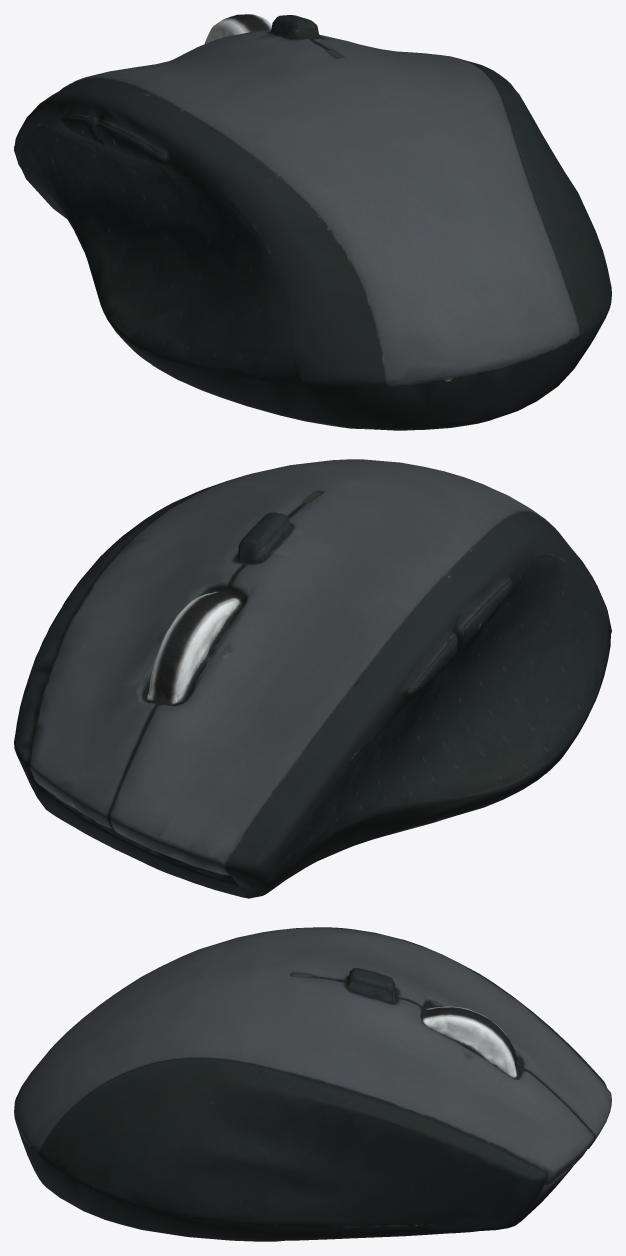
3 renders of one model, top to bottom at view 1: azimuth 30°, elevation 25°; view 2: azimuth 150°, elevation 25°; view 3: azimuth 270°, elevation 25°, orthographic. The views are drawn at different scales.
Visible parts, largest first — view 1: mesh0_object; view 2: mesh0_object; view 3: mesh0_object.
Boxes of the visible parts, bbox=[...] form: mesh0_object: bbox=[14, 14, 611, 430]; mesh0_object: bbox=[14, 459, 611, 898]; mesh0_object: bbox=[14, 927, 611, 1241].
Bounding box in the file's own units: 0.07 × 0.0422 × 0.1098.
1 material, 1 textured.
